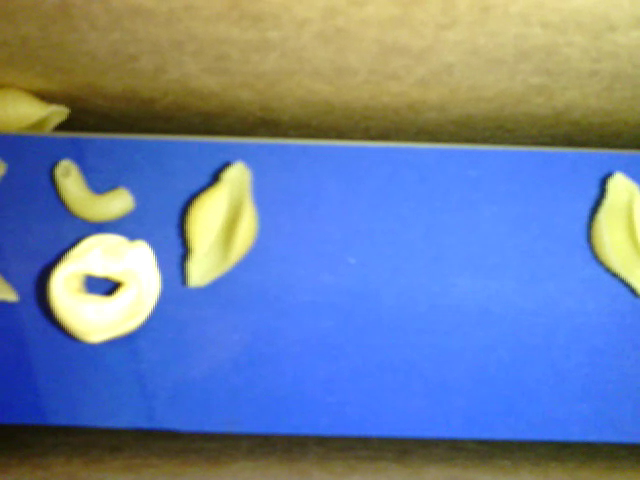elbow: (46, 157, 137, 225)
shell: (183, 158, 258, 291), (584, 167, 639, 292), (1, 84, 71, 132)
tortellini: (44, 232, 162, 345)
